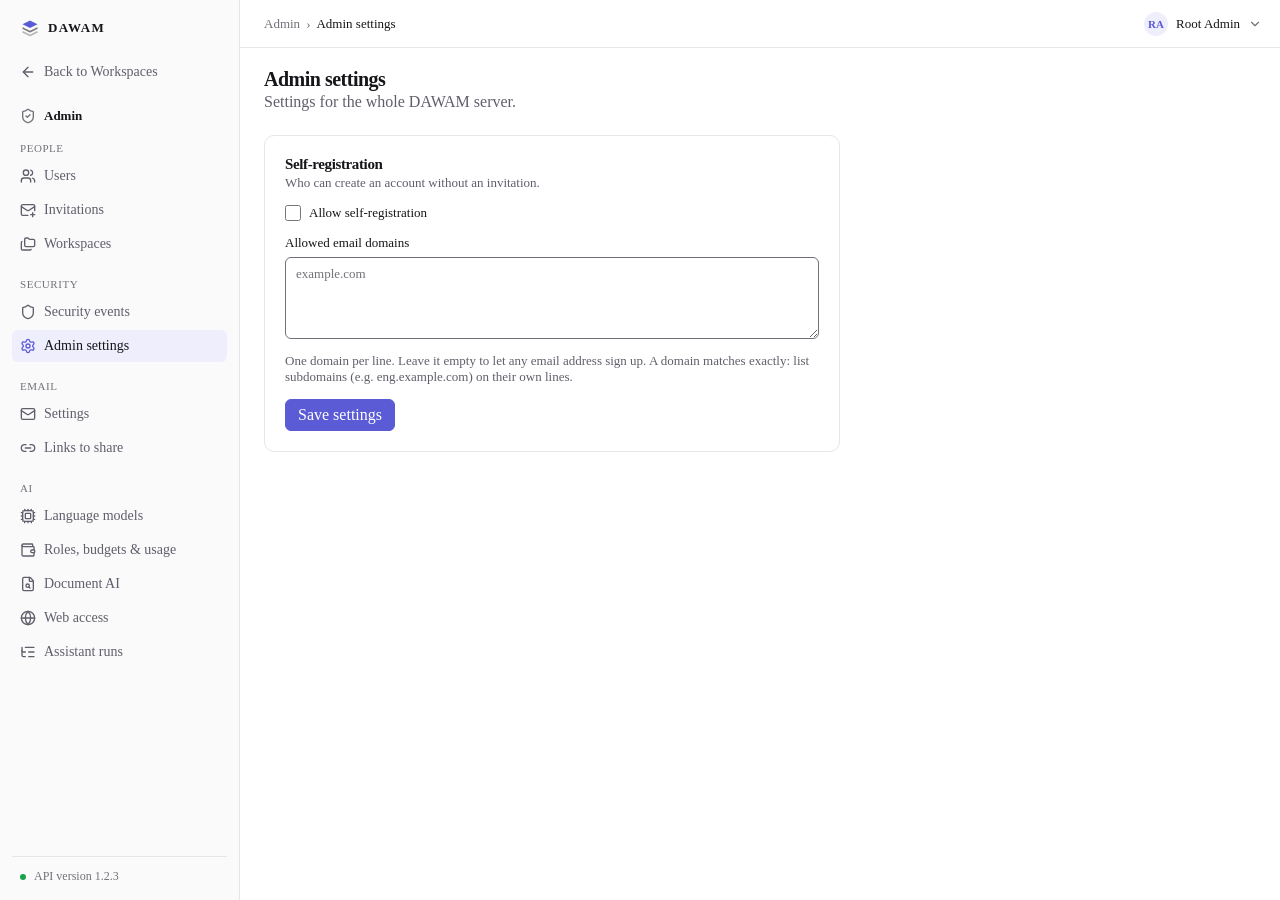
Scenario: the admin settings page › shows the API's message for an invalid domain
Type "localhost" into the text box labelled "Allowed email domains".
click(552, 298); type("localhost")  # box [285,257,819,339]
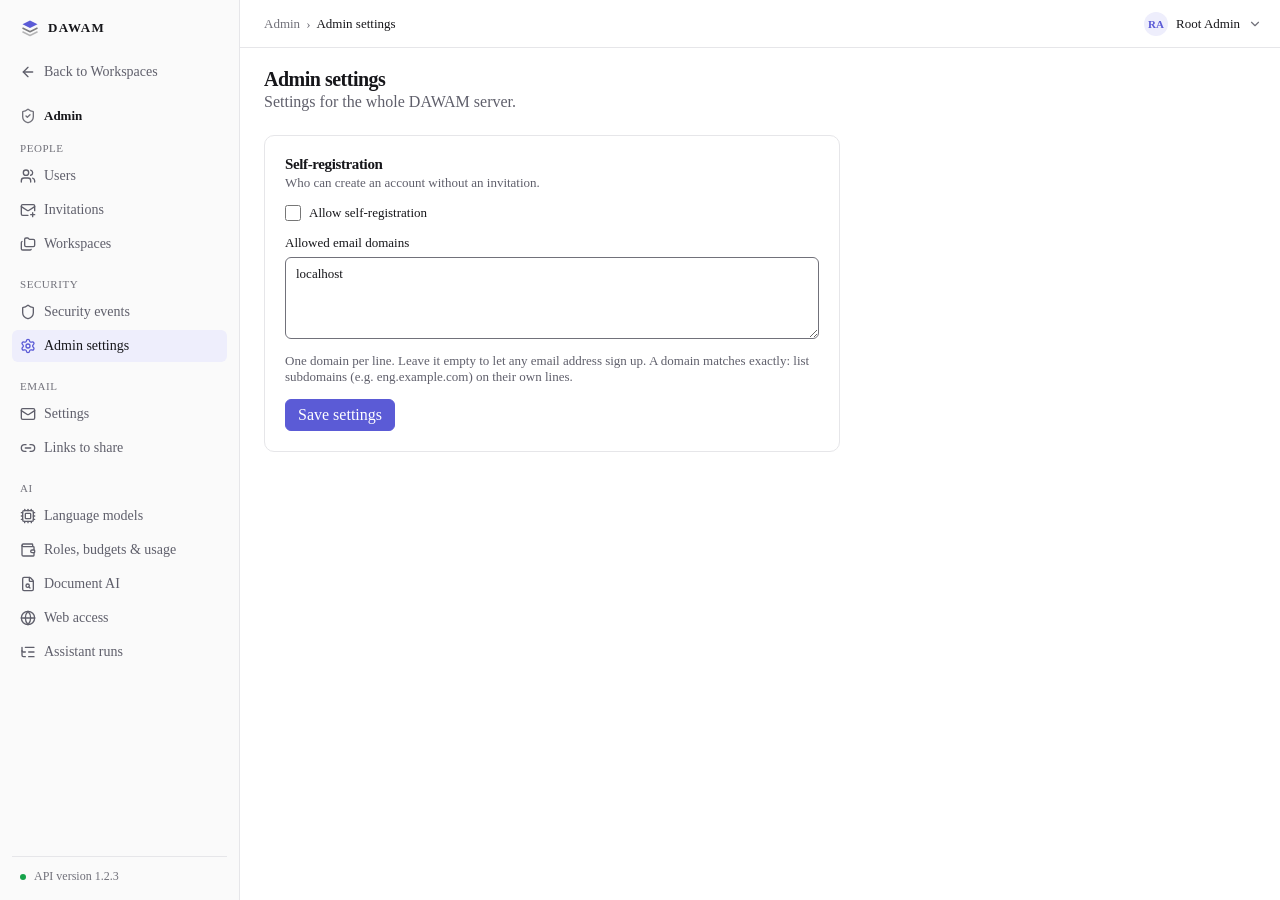
Click the button "Save settings".
click(340, 415)  # box [285,399,395,431]
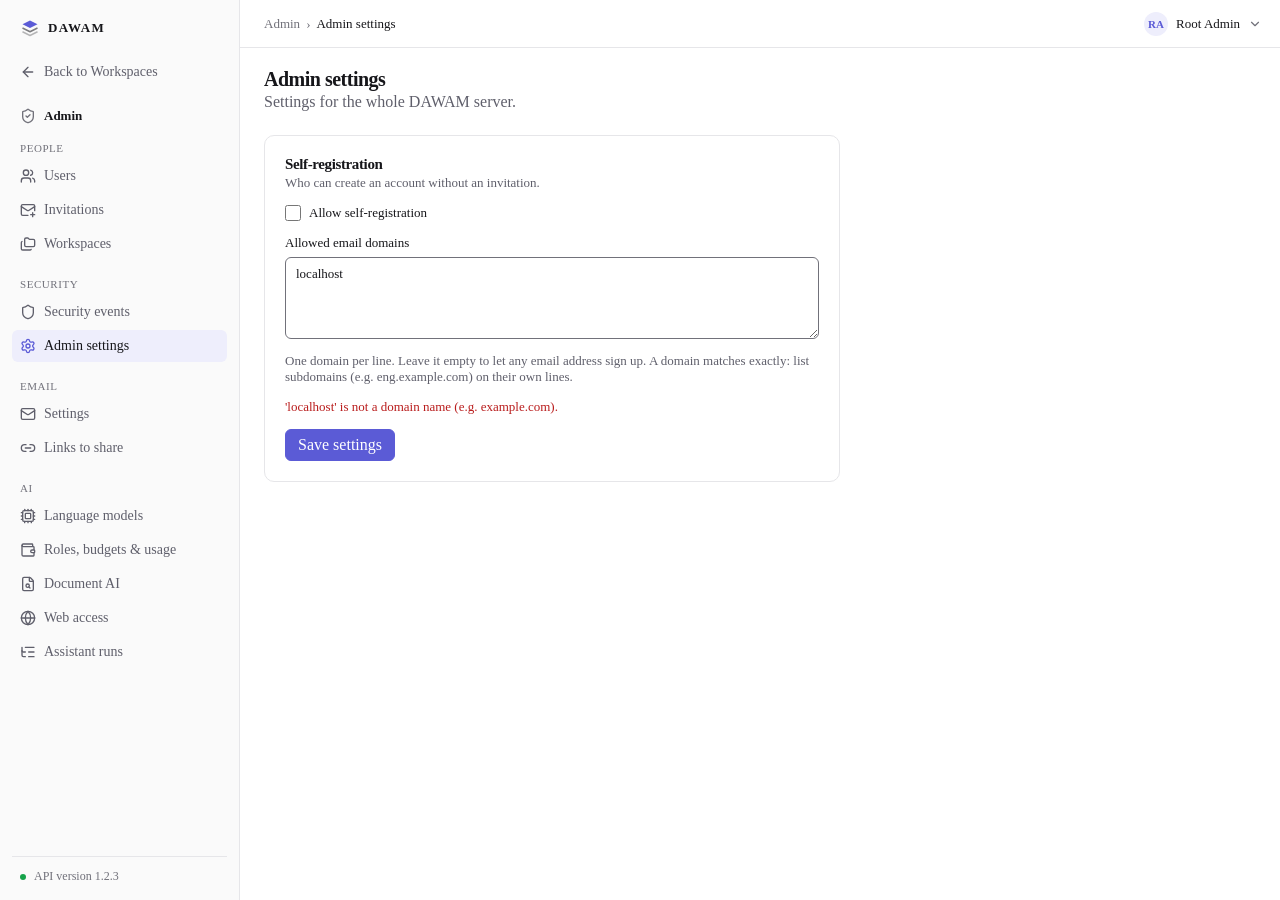
Expected: the message reads "'localhost' is not a domain name (e.g. example.com).", [285,399,558,414]
